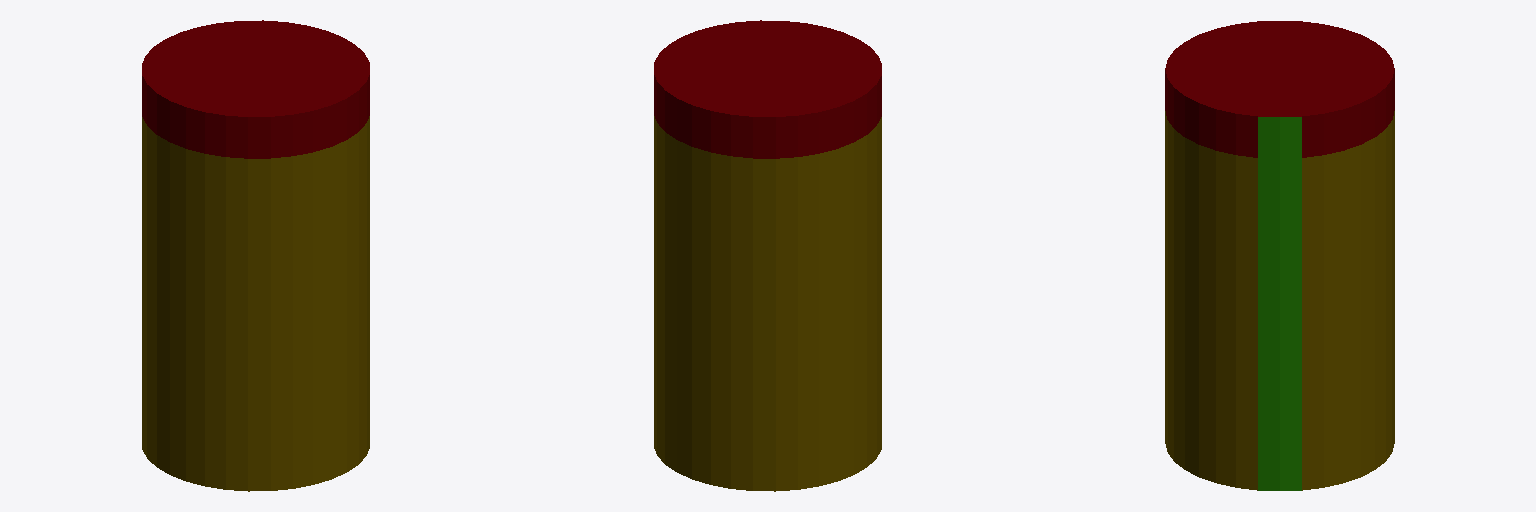
The robot description file, URDF, robot "dogJar":
<robot
  name="dogJar">
  <link name="dogJar">
    <inertial>
      <origin xyz="0.0 0.0 0.0" rpy="0 0 0"/>
      <mass value="0.4"/>
      <inertia ixx="1" ixy="0.0" ixz="0.0" iyy="1" iyz="0.0" izz="1" />
    </inertial>

    <visual>
      <geometry>
        <mesh filename="../meshes/dogJar.dae" scale="1 1 1" />
      </geometry>
     </visual>

    <collision>
      <geometry>
        <mesh filename="../meshes/dogJar.dae" scale="1 1 1" />
      </geometry>
    </collision>

  </link>
</robot>

--- Facts derived from the render (not from the file) ---
The picture shows the robot from 3 angles, left to right: view 1: azimuth 30°, elevation 25°; view 2: azimuth 150°, elevation 25°; view 3: azimuth 270°, elevation 25°; orthographic projection.
Model dogJar with 1 links and 0 joints (none), rooted at dogJar, posed every joint at zero.
Links seen in each view (by area): view 1: dogJar; view 2: dogJar; view 3: dogJar.
Link boxes in pixels (x1=…): dogJar: x1=142, y1=20, x2=369, y2=491; dogJar: x1=654, y1=20, x2=881, y2=491; dogJar: x1=1165, y1=21, x2=1394, y2=490.
Size in the robot's own frame: 0.0999 by 0.0999 by 0.1798 metres.
Meshes: 1 distinct files referenced, 1 mesh visuals loaded (1 Collada DAE).